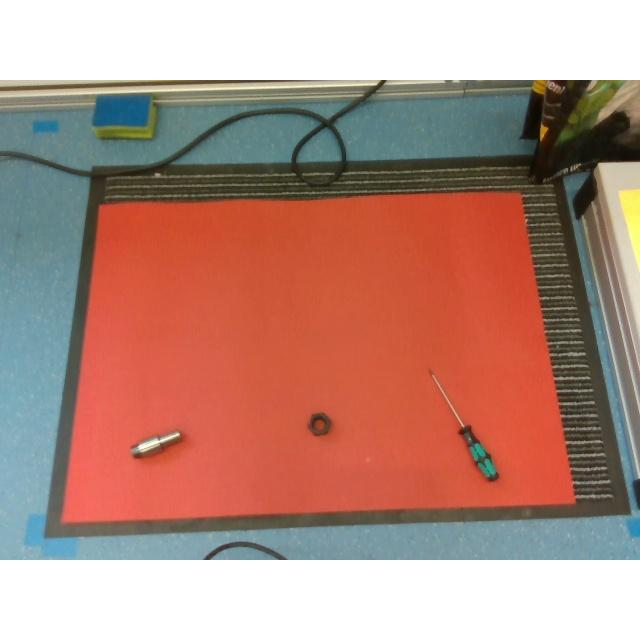Axis2: (129, 428, 181, 456)
M20: (308, 412, 332, 434)
Screwdriver: (427, 367, 498, 478)
